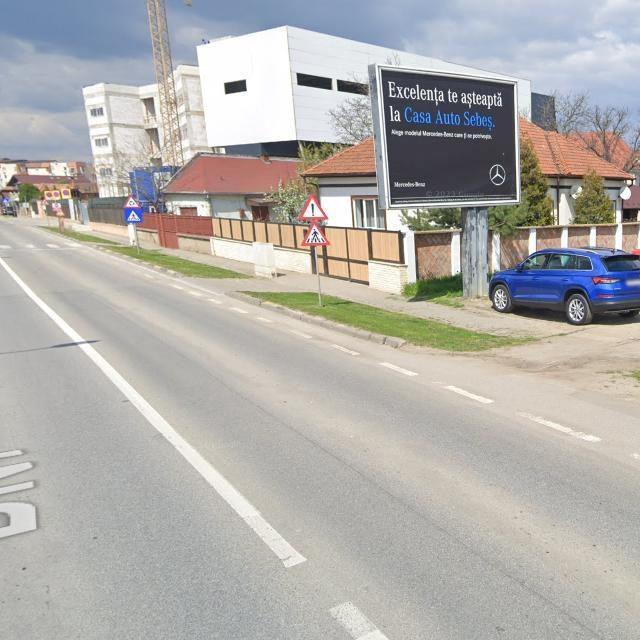info_crosswalk: (124, 209, 143, 224)
warn_crosswalk: (302, 221, 331, 246)
